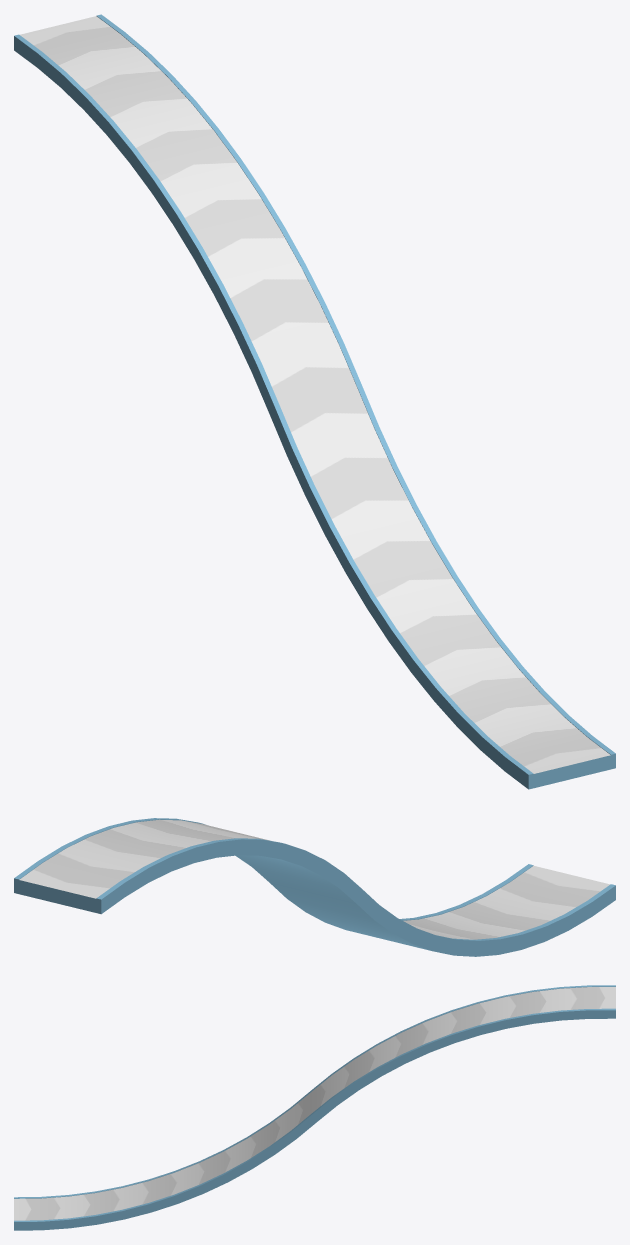
The model's file is platform_UP-3.fbx.
3 renders of one model, top to bottom at view 1: azimuth 30°, elevation 25°; view 2: azimuth 150°, elevation 25°; view 3: azimuth 270°, elevation 25°, orthographic. The views are drawn at different scales.
Parts seen in each view (by area): view 1: platform-up-3; view 2: platform-up-3; view 3: platform-up-3.
Boxes of the visible parts, bbox=[...] form: platform-up-3: bbox=[14, 14, 615, 789]; platform-up-3: bbox=[14, 818, 615, 956]; platform-up-3: bbox=[14, 985, 615, 1230].
Bounding box in the file's own units: 6.41 × 26.43 × 65.36.
